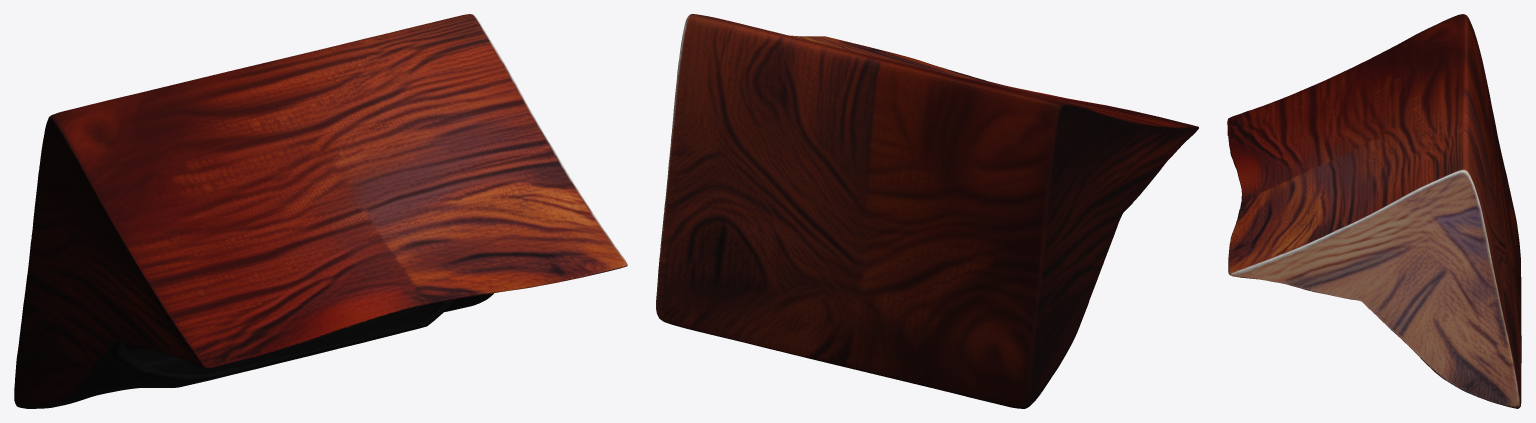
Rendered from wooden-card-holder-futuristic.jpeg.glb.
3 renders of one model, left to right at view 1: azimuth 30°, elevation 25°; view 2: azimuth 150°, elevation 25°; view 3: azimuth 270°, elevation 25°, orthographic. The views are drawn at different scales.
Visible parts, largest first — view 1: world; view 2: world; view 3: world.
Part boxes in pixels (x1,y1,x2,y2): world: (14, 14, 627, 408); world: (656, 14, 1198, 408); world: (1227, 14, 1521, 408).
Bounding box in the file's own units: 1 × 0.7228 × 0.7939.
Materials: 1 (1 with a texture image).
